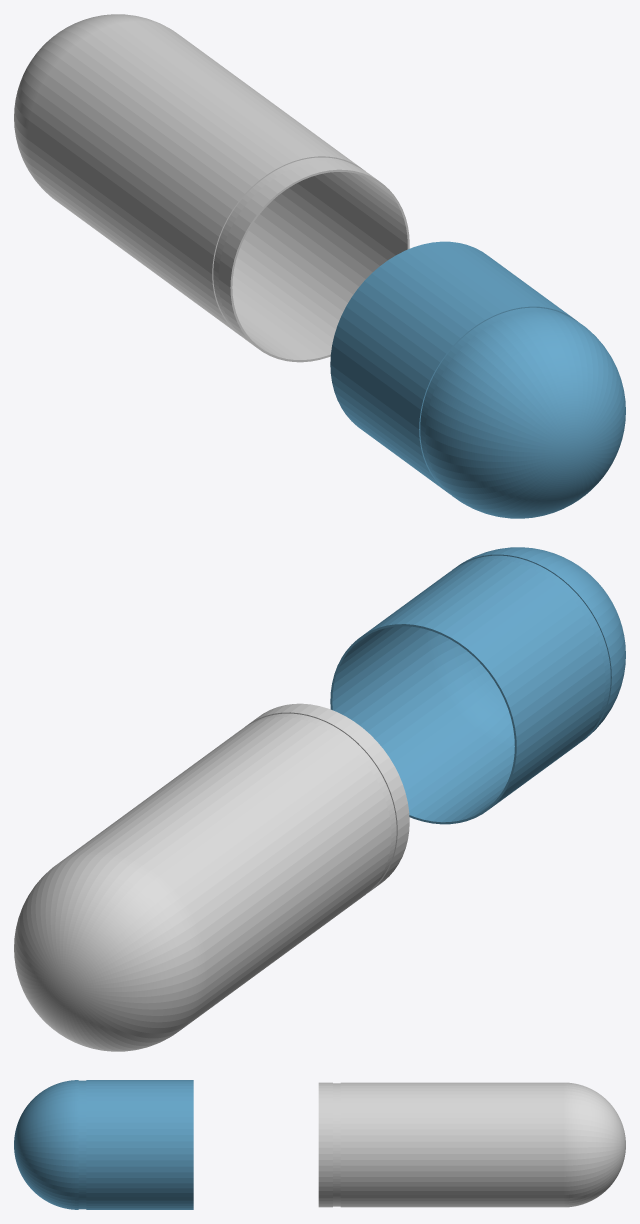
The model's file is capsule_open.glb.
The picture shows the model from 3 angles, top to bottom: view 1: azimuth 30°, elevation 25°; view 2: azimuth 150°, elevation 25°; view 3: azimuth 270°, elevation 25°; orthographic projection. The views are drawn at different scales.
Visible parts, largest first — view 1: capsule_body, capsule_cap; view 2: capsule_body, capsule_cap; view 3: capsule_body, capsule_cap.
Boxes of the visible parts, x1=… form: capsule_body: x1=14, y1=14, x2=409, y2=362; capsule_cap: x1=330, y1=241, x2=625, y2=518; capsule_body: x1=14, y1=703, x2=409, y2=1051; capsule_cap: x1=330, y1=547, x2=625, y2=824; capsule_body: x1=318, y1=1082, x2=625, y2=1207; capsule_cap: x1=14, y1=1080, x2=193, y2=1209.
Bounding box in the file's own units: 0.00855 × 0.00855 × 0.0402.
